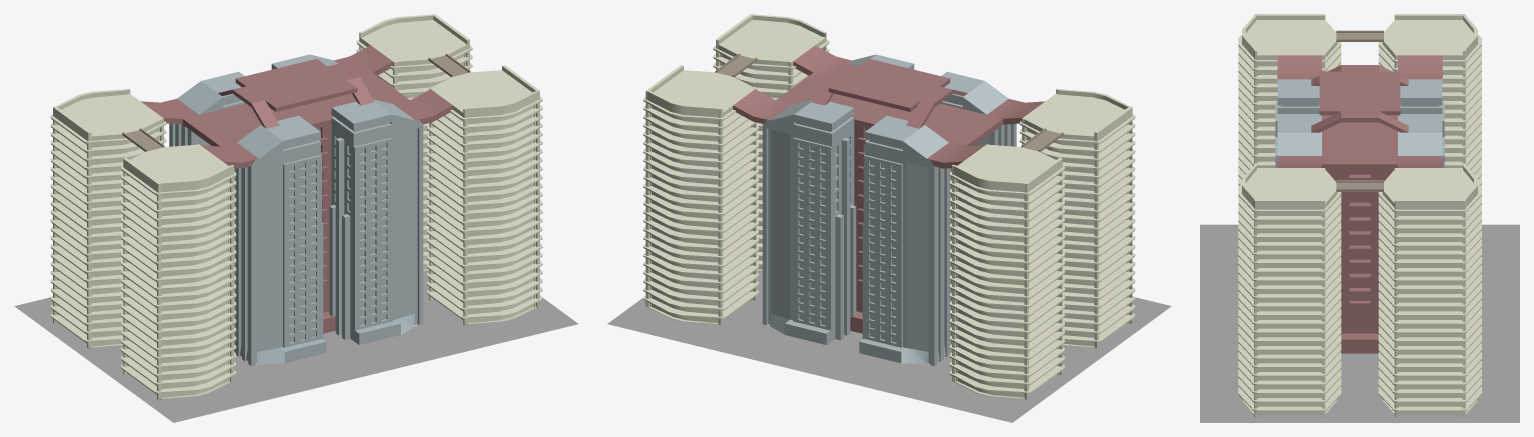
The model's file is SkyscraperFinal.fbx.
3 views of the same model, side by side, from view 1: azimuth 30°, elevation 25°; view 2: azimuth 150°, elevation 25°; view 3: azimuth 270°, elevation 25° (orthographic).
Parts seen in each view (by area): view 1: Outside_Tower3, Outside_Tower4, CentralEdge, CentralEdge5, Outside_Tower2, CityGround, CentralBuilding, Outside_Tower1, BuildingRooftop, CentralEdge4, SkyBridge, SkyBridge1; view 2: Outside_Tower2, Outside_Tower1, CentralEdge3, CentralEdge4, Outside_Tower3, CityGround, CentralBuilding, Outside_Tower4, BuildingRooftop, CentralEdge5, SkyBridge1, SkyBridge; view 3: Outside_Tower4, Outside_Tower1, CityGround, CentralBuilding, Outside_Tower3, Outside_Tower2, BuildingRooftop, CentralEdge, CentralEdge3, CentralEdge5, CentralEdge4, SkyBridge (+1 smaller).
Boxes of the visible parts, <box> form: Outside_Tower3: <box>120,144,236,399</box>; Outside_Tower4: <box>427,65,542,325</box>; CentralEdge: <box>329,99,423,344</box>; CentralEdge5: <box>234,115,326,365</box>; Outside_Tower2: <box>50,88,166,348</box>; CityGround: <box>14,271,578,422</box>; CentralBuilding: <box>141,45,452,333</box>; Outside_Tower1: <box>356,14,472,271</box>; BuildingRooftop: <box>218,59,374,128</box>; CentralEdge4: <box>169,71,245,146</box>; SkyBridge: <box>428,53,470,77</box>; SkyBridge1: <box>122,128,164,151</box>; Outside_Tower2: <box>949,144,1065,399</box>; Outside_Tower1: <box>643,65,758,325</box>; CentralEdge3: <box>762,99,856,344</box>; CentralEdge4: <box>859,115,951,366</box>; Outside_Tower3: <box>1019,88,1135,348</box>; CityGround: <box>607,271,1171,422</box>; CentralBuilding: <box>733,45,1044,333</box>; Outside_Tower4: <box>713,14,829,271</box>; BuildingRooftop: <box>811,58,967,128</box>; CentralEdge5: <box>940,72,1016,146</box>; SkyBridge1: <box>1021,128,1063,151</box>; SkyBridge: <box>715,53,757,77</box>; Outside_Tower4: <box>1238,163,1341,417</box>; Outside_Tower1: <box>1378,163,1481,417</box>; CityGround: <box>1200,224,1519,422</box>; CentralBuilding: <box>1277,55,1442,353</box>; Outside_Tower3: <box>1238,14,1341,239</box>; Outside_Tower2: <box>1378,14,1481,239</box>; BuildingRooftop: <box>1311,65,1408,132</box>; CentralEdge: <box>1275,114,1321,167</box>; CentralEdge3: <box>1398,114,1444,167</box>; CentralEdge5: <box>1275,78,1319,136</box>; CentralEdge4: <box>1400,79,1444,136</box>; SkyBridge: <box>1336,180,1383,191</box>.
Bounding box in the file's own units: 89.75 × 49.05 × 61.2.
